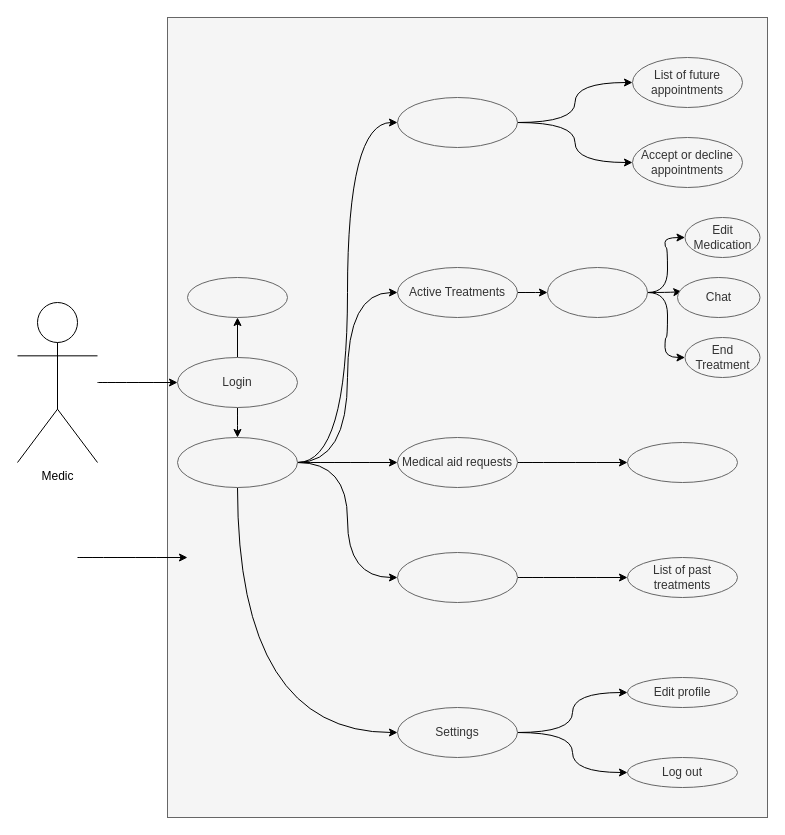
The diagram is 785 pixels wide and 835 high, and some of its shapes have lost their labels. Here are the shapes that lost their labels. From the top down, the centre of each, then its label:
At (457,122): "Appointments".
At (237,297): "Login error".
At (597,292): "Chat, reminder and review".
At (237,462): "Dashboard".
At (682,462): "Accept or decline help requests".
At (457,577): "Patients History".
